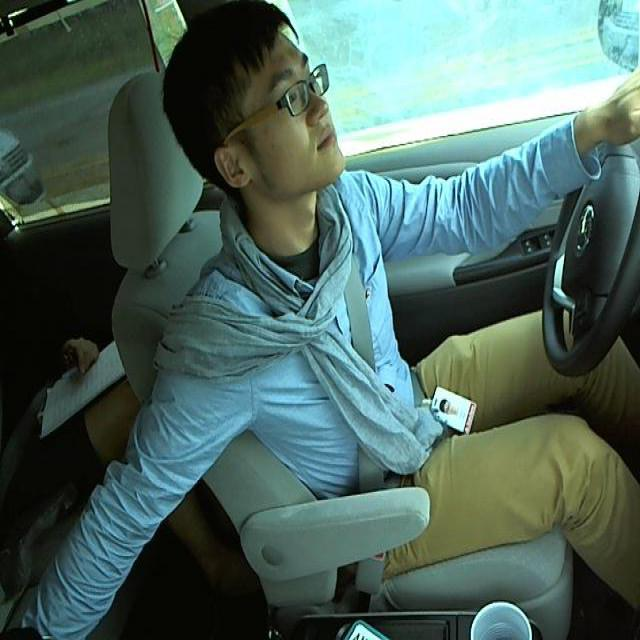seatbelt: (325, 275, 409, 493)
